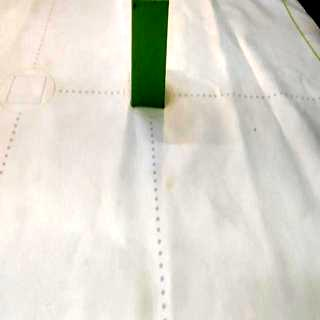greenbox: (130, 0, 170, 109)
